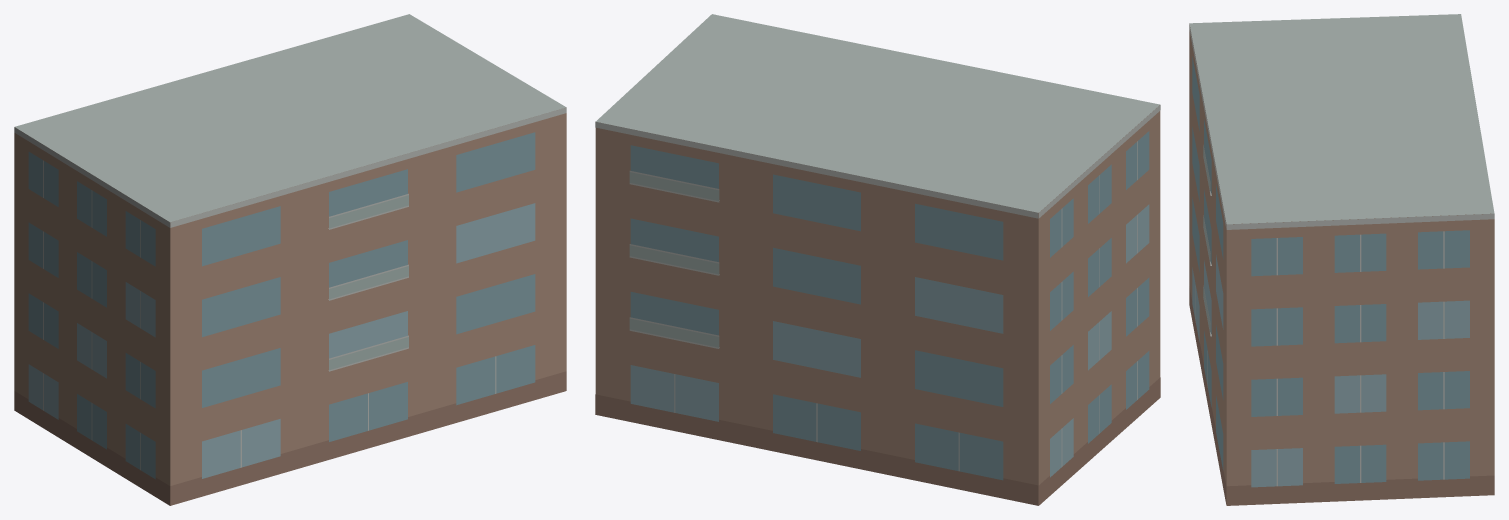
File: survey-upis-32755800.glb
3 views of the same model, side by side, from view 1: azimuth 30°, elevation 25°; view 2: azimuth 150°, elevation 25°; view 3: azimuth 270°, elevation 25° (orthographic). The views are drawn at different scales.
Visible parts, largest first — view 1: survey-upis-32755800.tmp; view 2: survey-upis-32755800.tmp; view 3: survey-upis-32755800.tmp.
Boxes of the visible parts, bbox=[...] form: survey-upis-32755800.tmp: bbox=[14, 14, 566, 505]; survey-upis-32755800.tmp: bbox=[595, 14, 1160, 505]; survey-upis-32755800.tmp: bbox=[1189, 14, 1494, 505].
Size of the model in its own units: 19.56 by 12.2 by 11.99.
